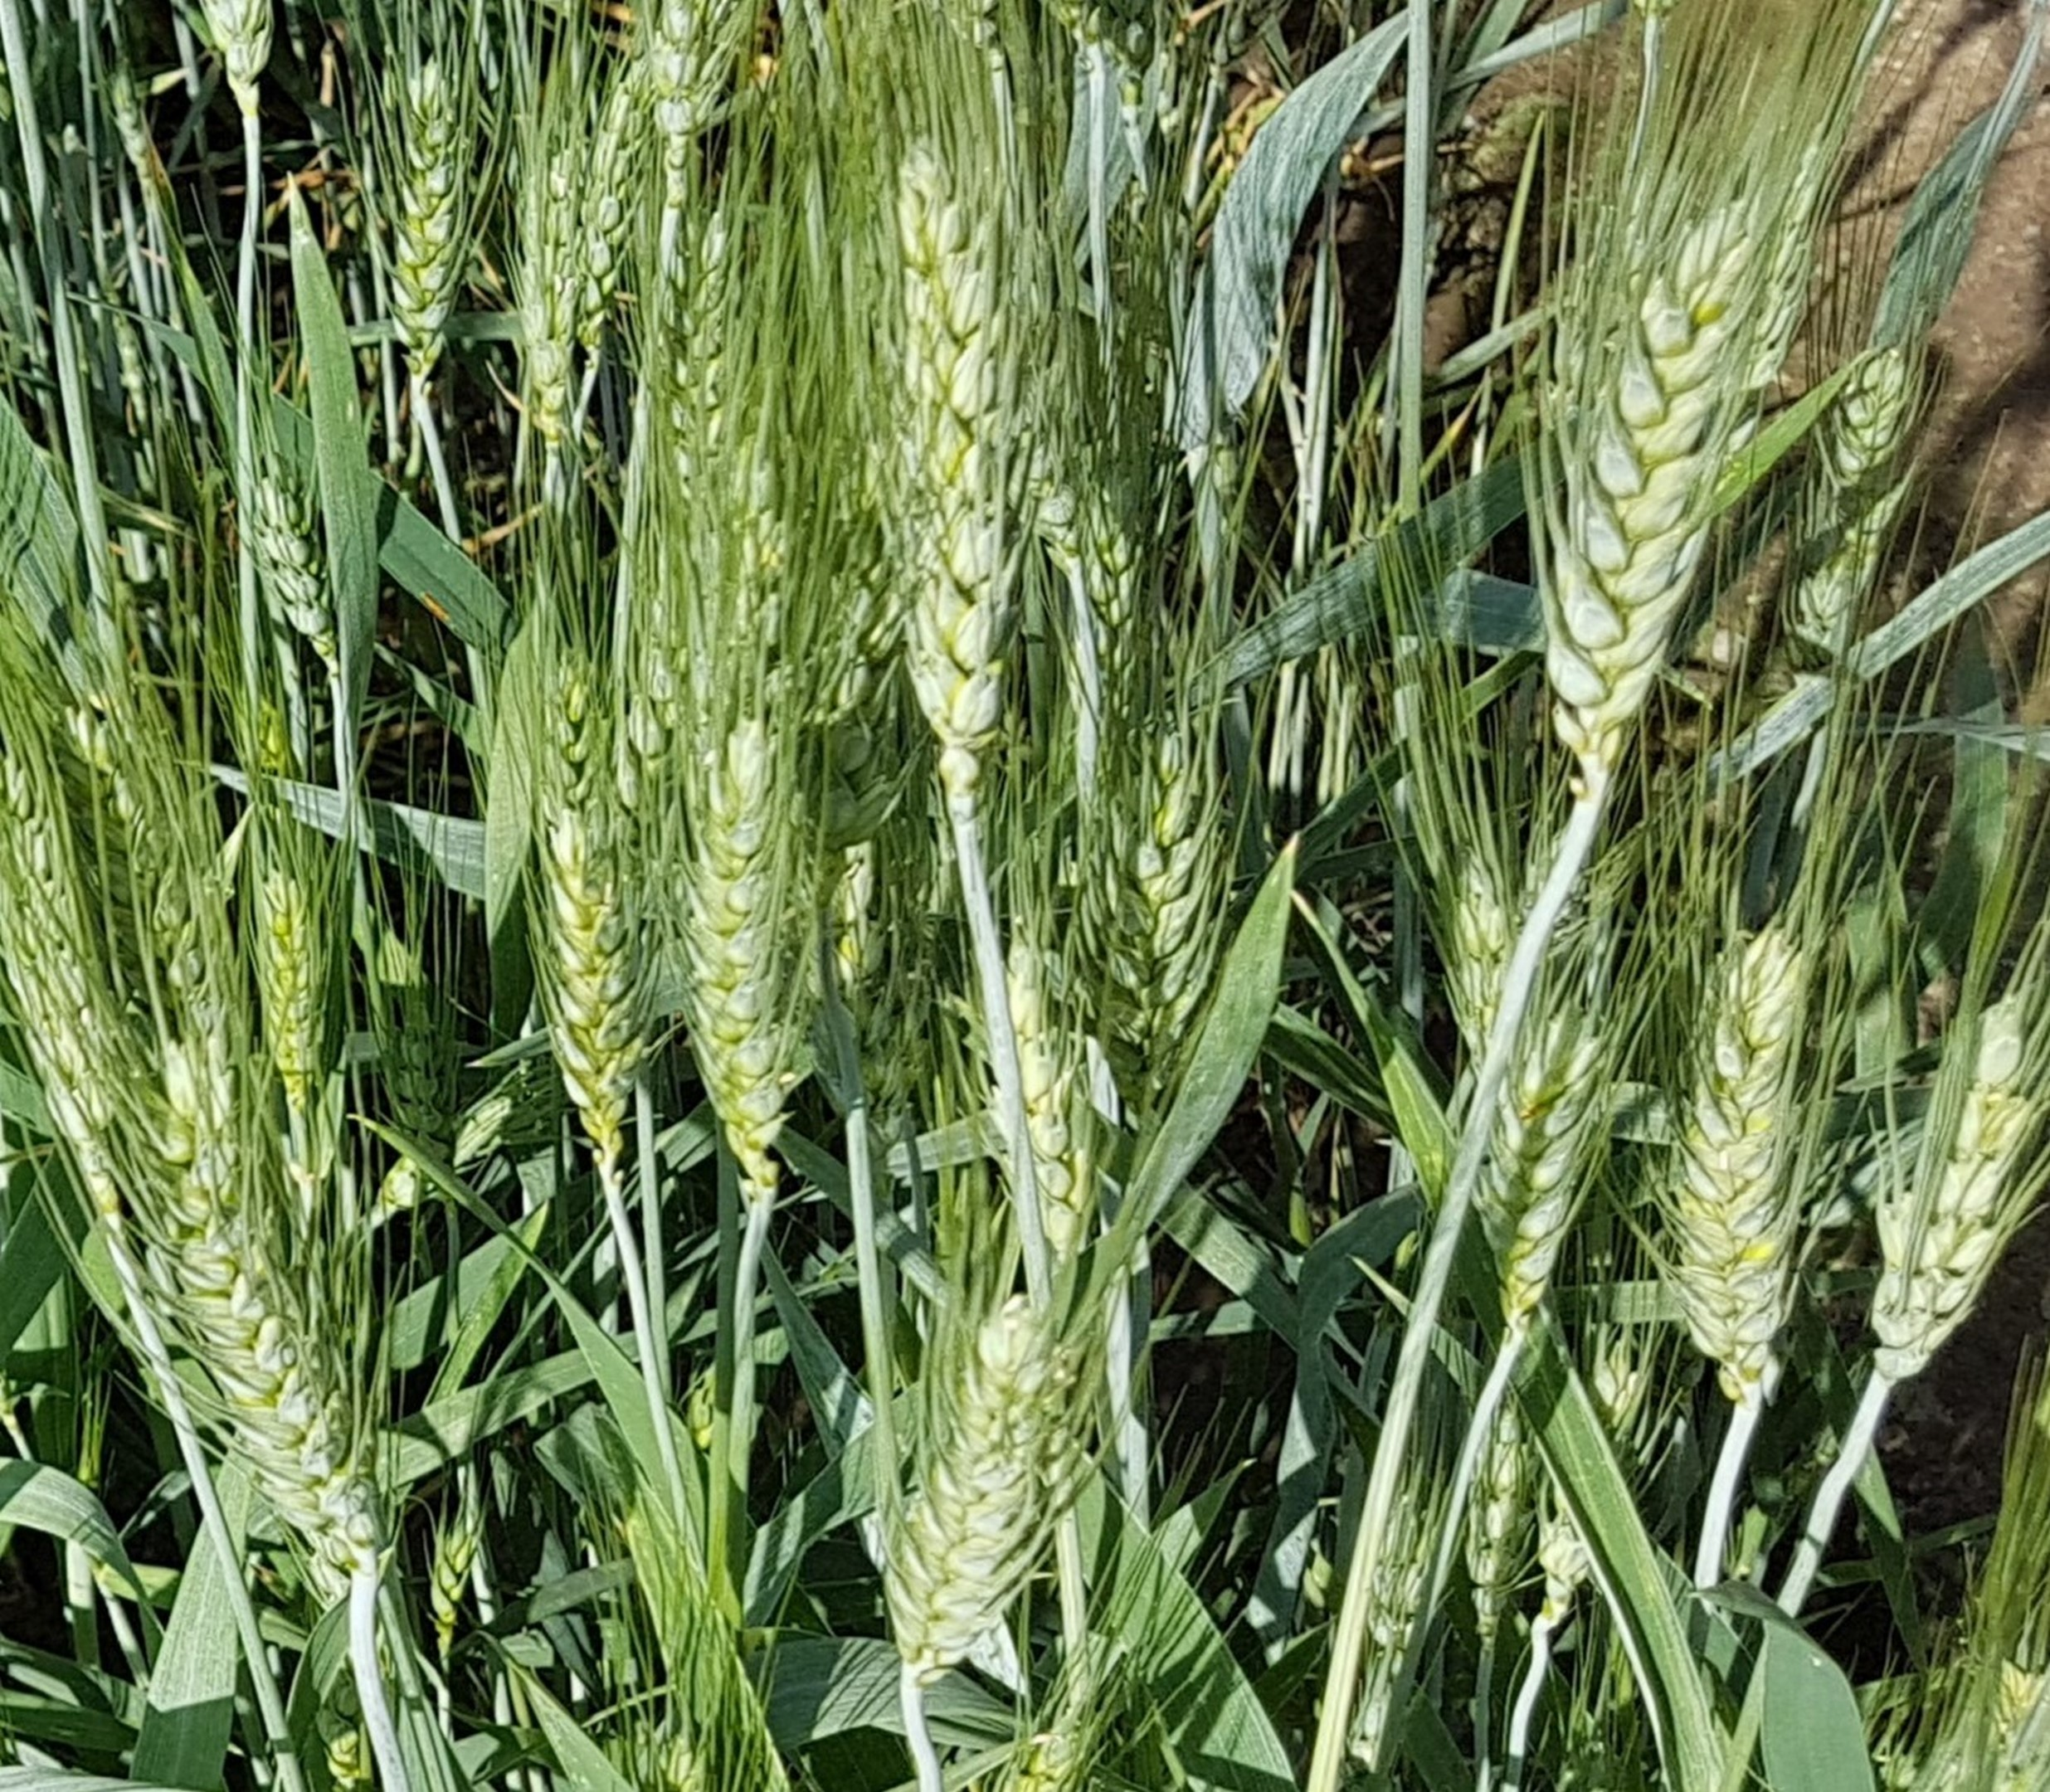Healthy Wheat: (490, 704, 833, 1166), (1553, 180, 1815, 777), (1656, 913, 1874, 1435), (167, 1170, 415, 1592)
